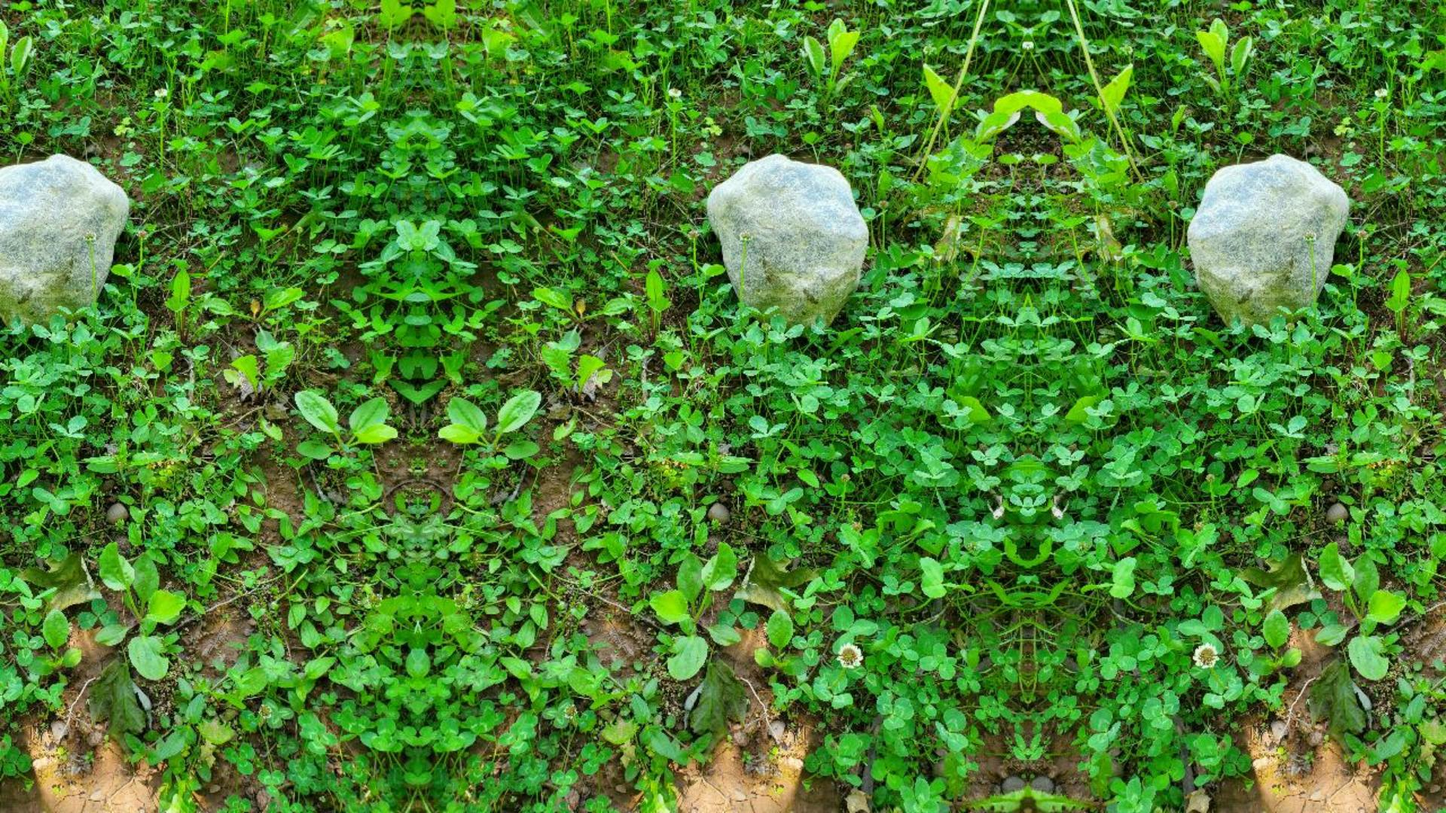rock: (1187, 155, 1348, 324), (707, 155, 866, 325), (0, 155, 128, 323)
